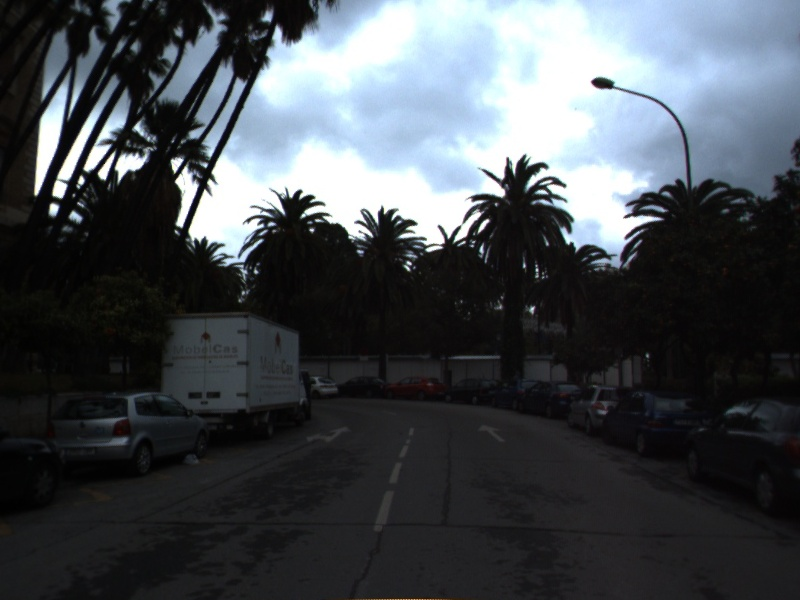STRAIGHT: (476, 422, 507, 443)
STRAIGHT_LEFT: (304, 424, 354, 445)
